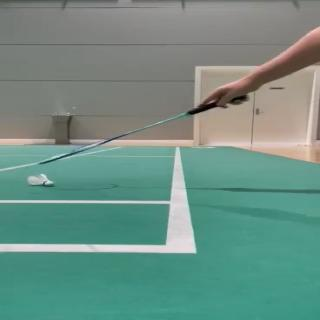Shuttle: (27, 174, 54, 186)
